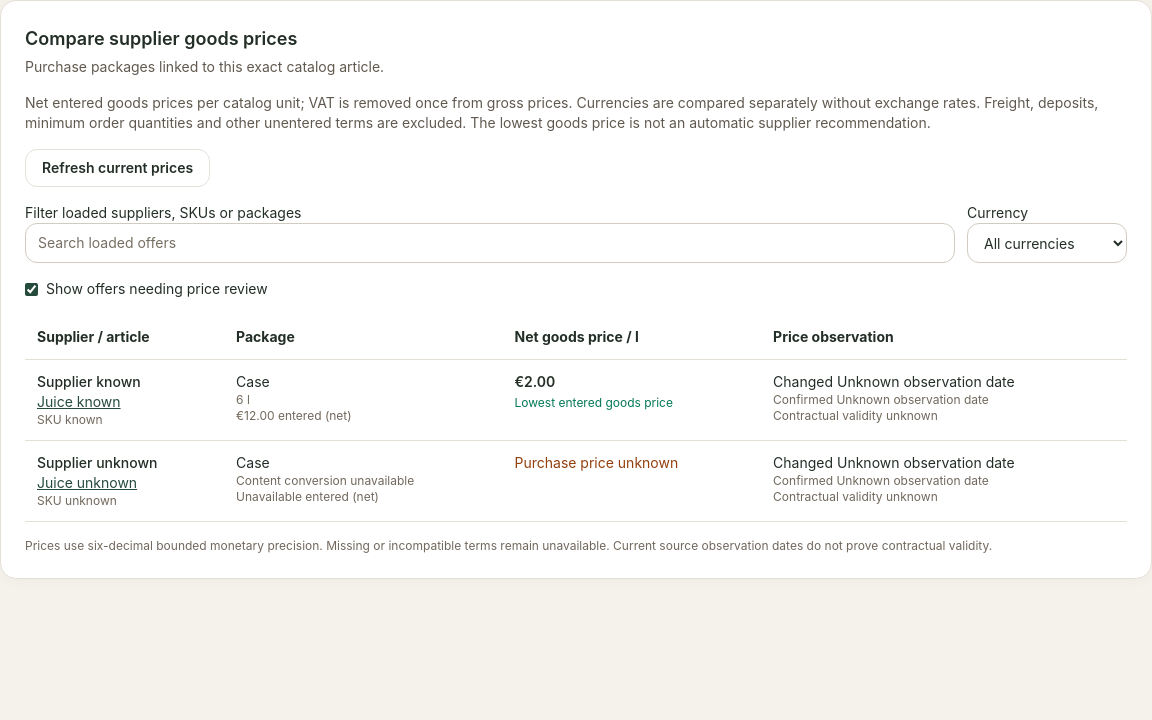
Test case: supplier price insight workflows › provides practical filters and explicit unknown pricing/validity and excluded charges
expect the text "Purchase price unknown" is shown: met, box [514,454,678,471]
expect the text "Freight, deposits, minimum order quantities" is shown: met, box [25,94,1098,131]
In the field with placeholder "Search loaded offers": x=490, y=243 [25,223,955,263], type "known"
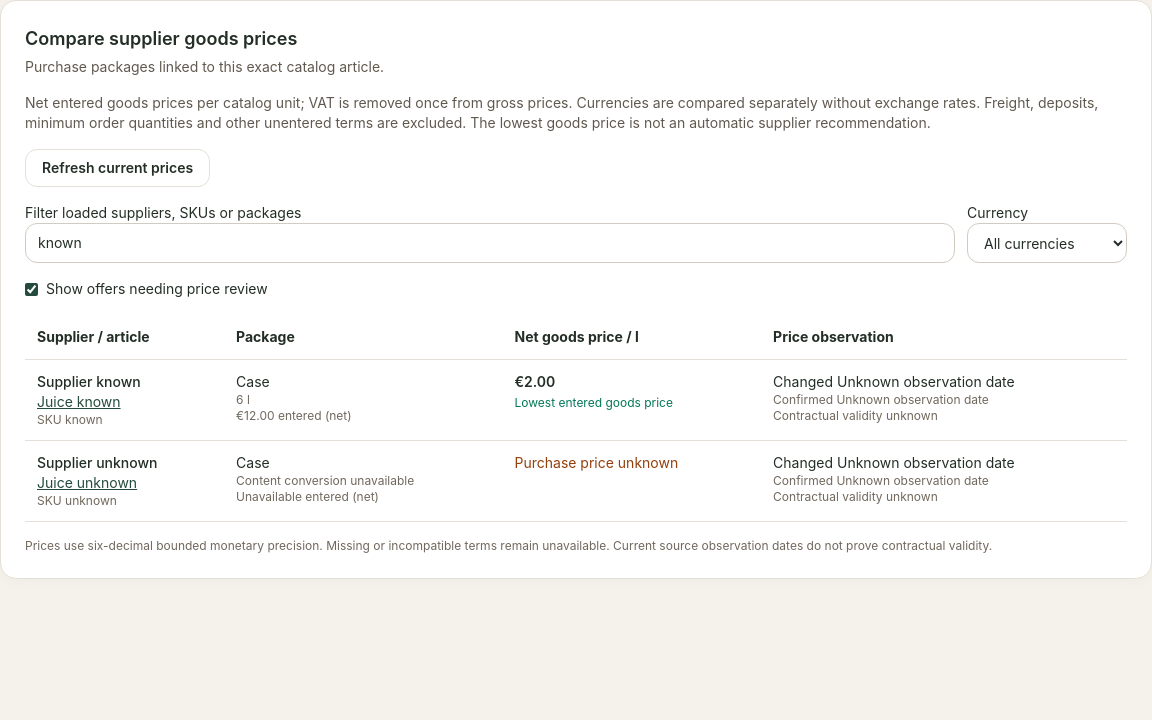
expect the link "Juice known" is shown: met, box [37,393,121,410]
Click the checkbox labelled "Show offers needing price review": x=32, y=289 [25,282,38,296]
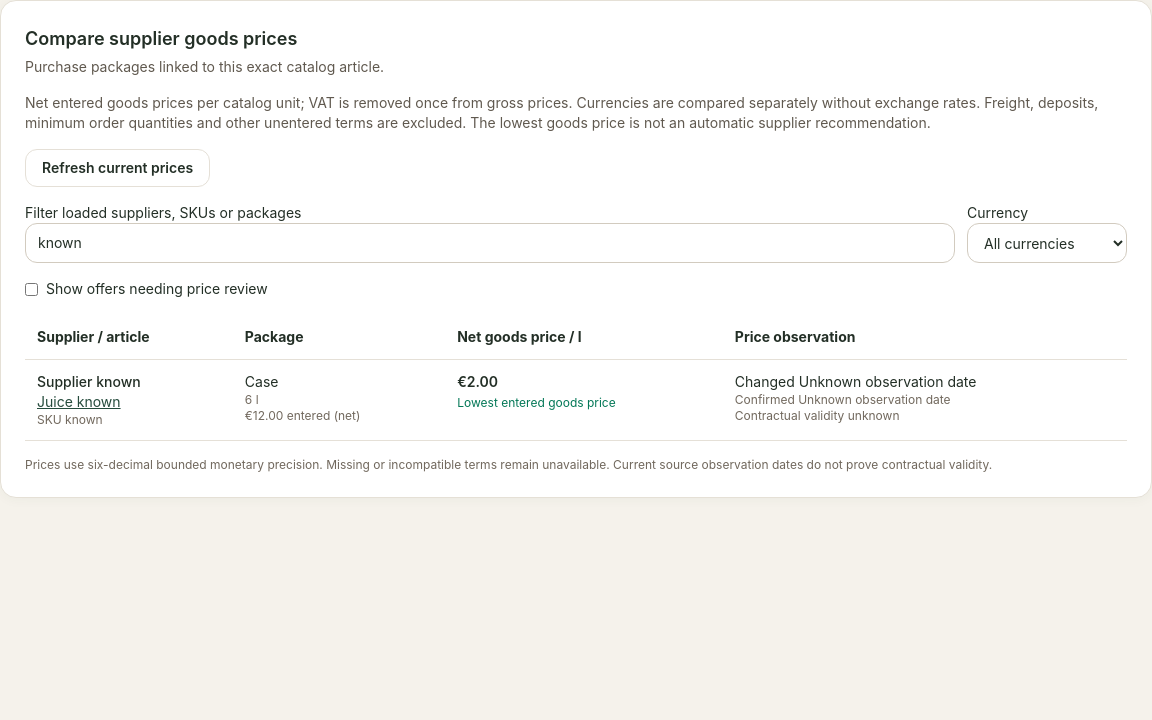
expect the text "Purchase price unknown" is gone: met
